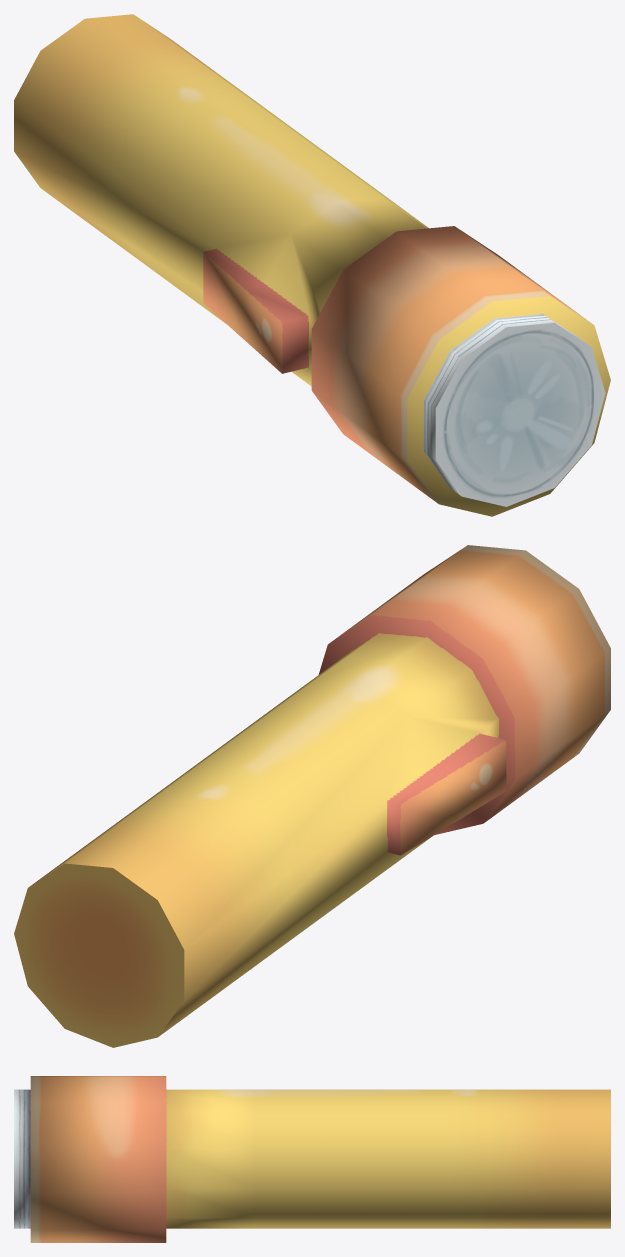
File: flashlight.fbx
3 renders of one model, top to bottom at view 1: azimuth 30°, elevation 25°; view 2: azimuth 150°, elevation 25°; view 3: azimuth 270°, elevation 25°, orthographic. The views are drawn at different scales.
Parts seen in each view (by area): view 1: Cylinder001; view 2: Cylinder001; view 3: Cylinder001.
Part boxes in pixels (left/top/right/bottom): Cylinder001: left=14, top=14, right=610, bottom=516; Cylinder001: left=14, top=545, right=610, bottom=1047; Cylinder001: left=14, top=1076, right=610, bottom=1242.
Bounding box in the file's own units: 3.56 × 3.43 × 12.17.
Materials: 1 (1 with a texture image).
